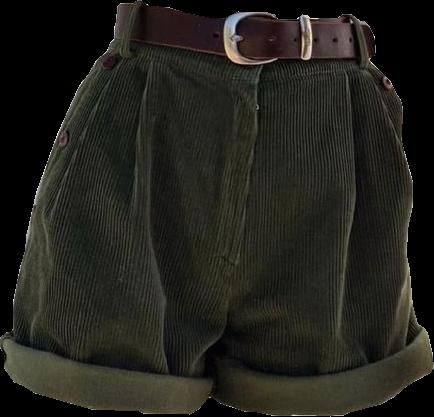Hemline: (215, 363, 433, 416), (3, 366, 208, 415)
Pantleg: (0, 0, 261, 413), (216, 13, 433, 415)
Waistline: (114, 35, 371, 64), (117, 1, 362, 26)
